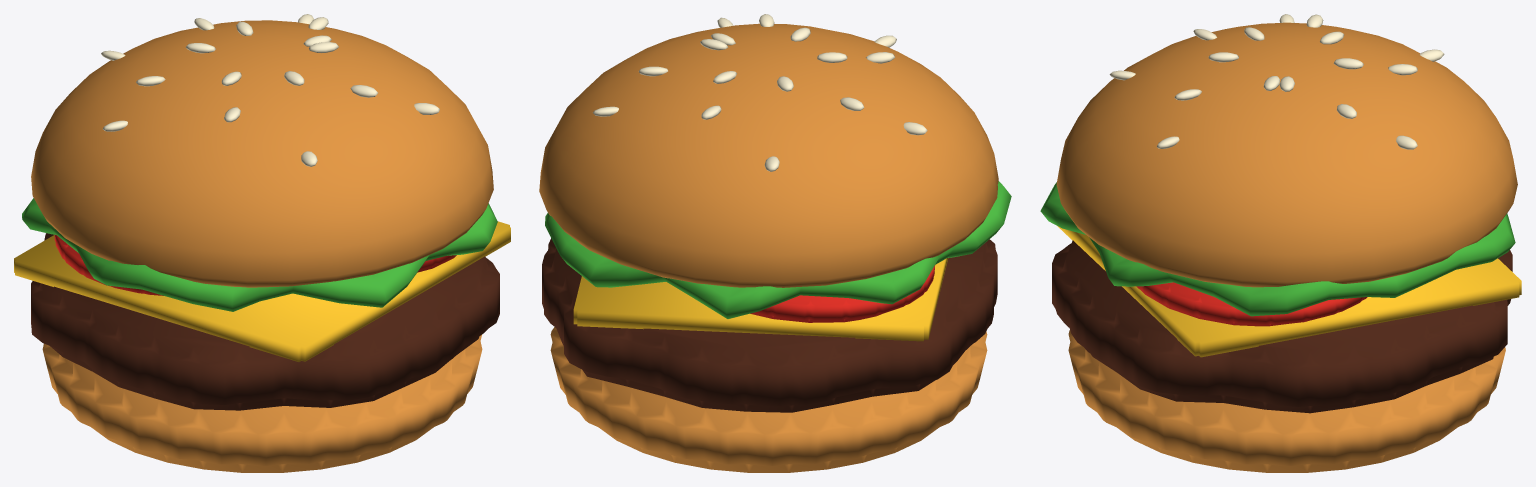
The model's file is burger.glb.
The picture shows the model from 3 angles, left to right: view 1: azimuth 30°, elevation 25°; view 2: azimuth 150°, elevation 25°; view 3: azimuth 270°, elevation 25°; orthographic projection.
Parts seen in each view (by area): view 1: TopBun, BeefPatty, BottomBun, MeltedCheese, Lettuce, Tomato_1; view 2: TopBun, BeefPatty, BottomBun, MeltedCheese, Lettuce, Tomato_1; view 3: TopBun, BeefPatty, BottomBun, MeltedCheese, Lettuce, Tomato_2.
Boxes of the visible parts, x1=… form: TopBun: x1=31, y1=20, x2=493, y2=287; BeefPatty: x1=31, y1=233, x2=499, y2=410; BottomBun: x1=42, y1=335, x2=482, y2=472; MeltedCheese: x1=14, y1=221, x2=510, y2=361; Lettuce: x1=22, y1=198, x2=497, y2=311; Tomato_1: x1=54, y1=235, x2=163, y2=295; TopBun: x1=539, y1=23, x2=998, y2=287; BeefPatty: x1=542, y1=238, x2=997, y2=412; BottomBun: x1=550, y1=327, x2=987, y2=472; MeltedCheese: x1=573, y1=258, x2=948, y2=341; Lettuce: x1=545, y1=181, x2=1011, y2=318; Tomato_1: x1=750, y1=265, x2=935, y2=322; TopBun: x1=1056, y1=22, x2=1517, y2=287; BeefPatty: x1=1052, y1=240, x2=1512, y2=413; BottomBun: x1=1068, y1=330, x2=1505, y2=472; MeltedCheese: x1=1057, y1=226, x2=1521, y2=357; Lettuce: x1=1040, y1=182, x2=1515, y2=316; Tomato_2: x1=1136, y1=282, x2=1367, y2=326.
Size of the model in its own units: 1.65 by 1.29 by 1.65.
